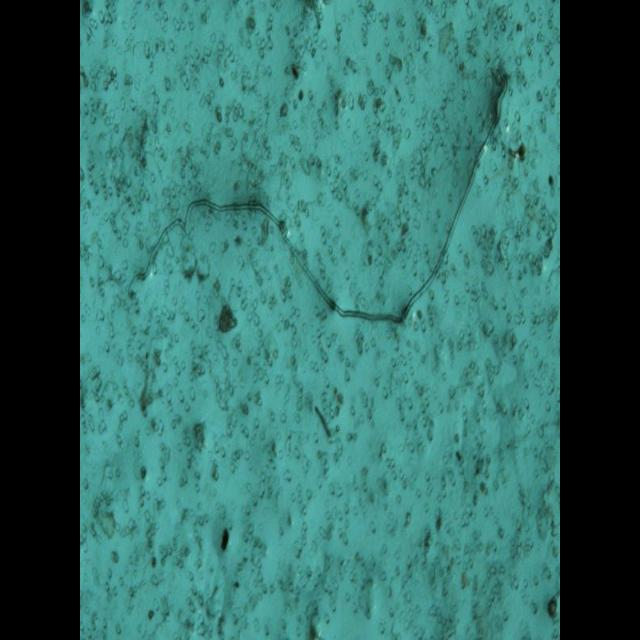Fibre: (127, 62, 510, 328)
